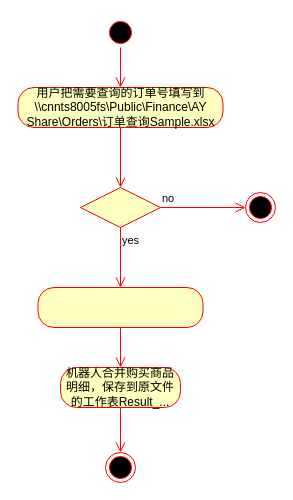
The diagram is 293 pixels wide and 500 high, and some of its shapes have lost their labels. The shapes that lost their labels are listed below. From the top down, each one's box as (x1, y1, x2, y2) in pixels, then its label:
(80, 186, 160, 228): 原文件是否有工作表Result_...
(37, 286, 203, 328): 机器人登陆JD网站，输入订单号，查询两个月内或之前的购买商品明细
